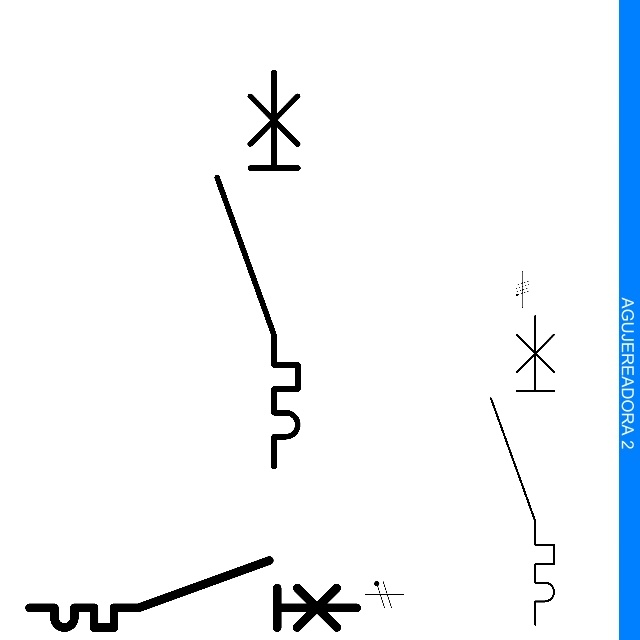interruptor_termomagnetico: (207, 62, 308, 477), (21, 552, 365, 636), (483, 307, 562, 633)
